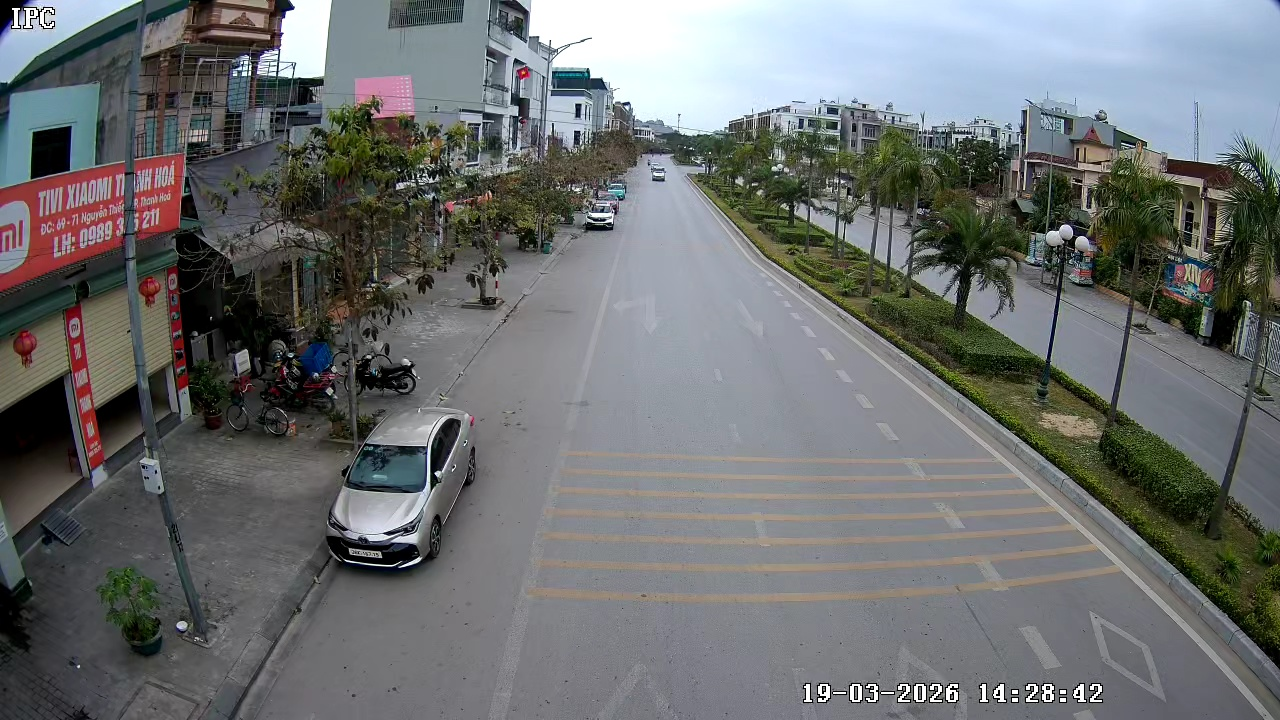car: (326, 405, 479, 572), (583, 200, 618, 231)
motorbike: (350, 325, 419, 398)
